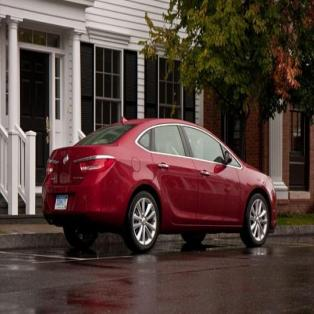Auto: (41, 117, 277, 255)
